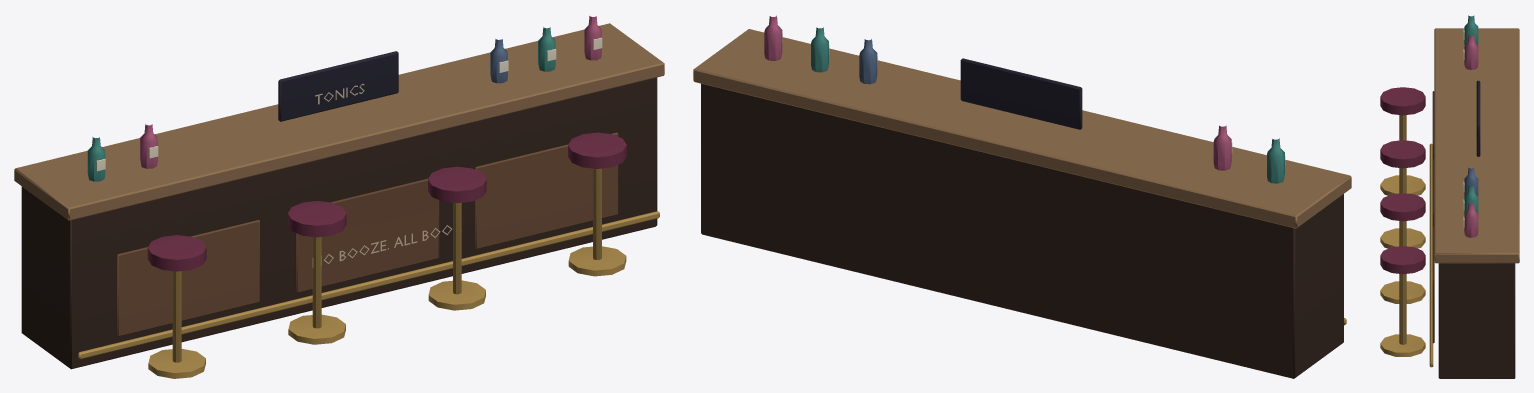
Rendered from bar_counter.glb.
3 views of the same model, side by side, from view 1: azimuth 30°, elevation 25°; view 2: azimuth 150°, elevation 25°; view 3: azimuth 270°, elevation 25° (orthographic). The views are drawn at different scales.
Visible parts, largest first — view 1: bar_counter, menu; view 2: bar_counter, menu; view 3: bar_counter, menu.
Part boxes in pixels (x1,y1,x2,y2): bar_counter: (14,16,664,378); menu: (278,51,398,121); bar_counter: (693,15,1351,378); menu: (960,58,1082,129); bar_counter: (1380,15,1519,378); menu: (1476,80,1480,156).
Size of the model in its own units: 3.75 by 1.28 by 0.98.
